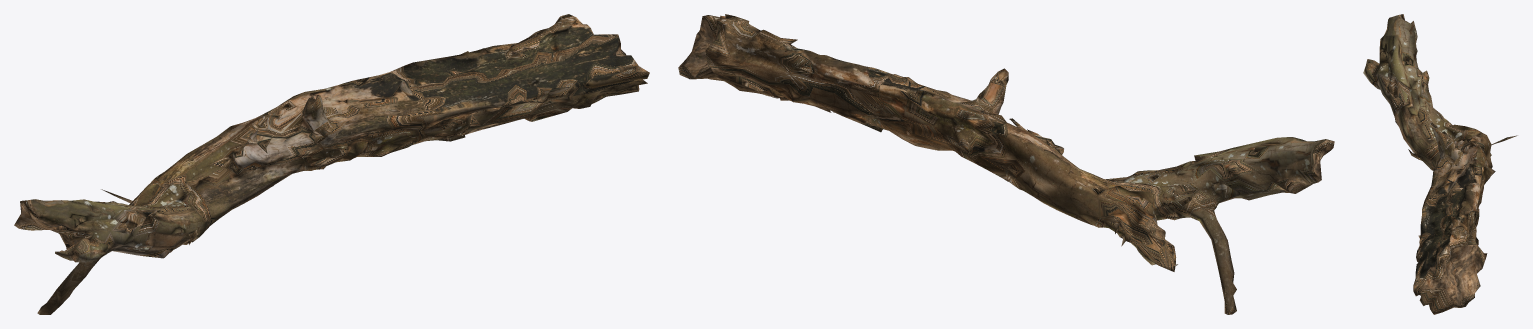
The model's file is tree_dead.glb.
The picture shows the model from 3 angles, left to right: view 1: azimuth 30°, elevation 25°; view 2: azimuth 150°, elevation 25°; view 3: azimuth 270°, elevation 25°; orthographic projection. The views are drawn at different scales.
Size of the model in its own units: 4.05 by 1.05 by 1.05.
1 material, 1 textured.
